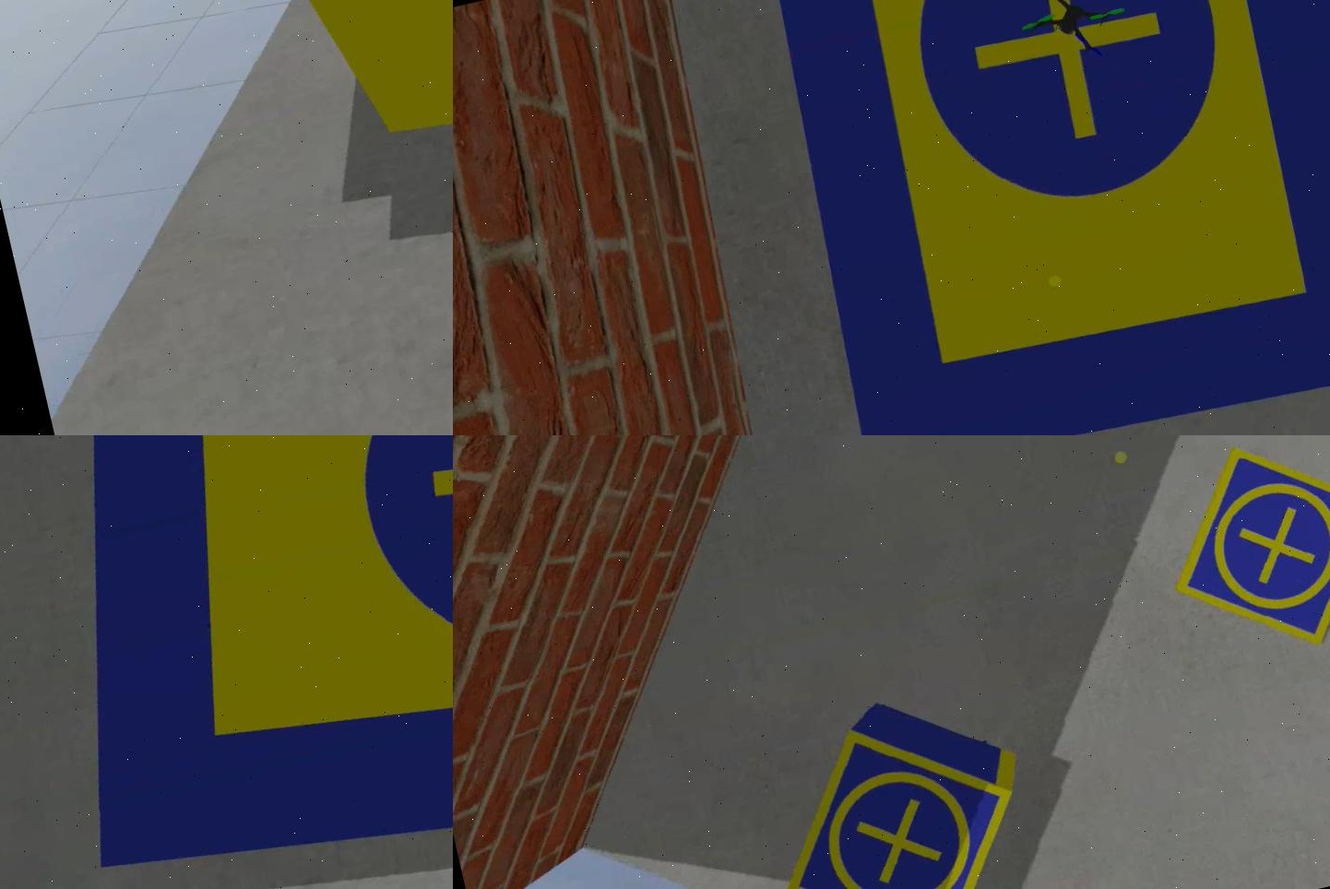large_base: (742, 1, 1328, 435), (0, 435, 452, 889)
small_base: (752, 694, 1040, 889), (1149, 435, 1328, 676)
